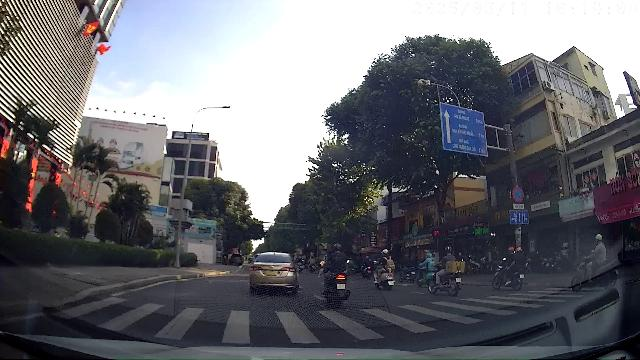131a-cam-do-xe: (512, 187, 524, 203)
